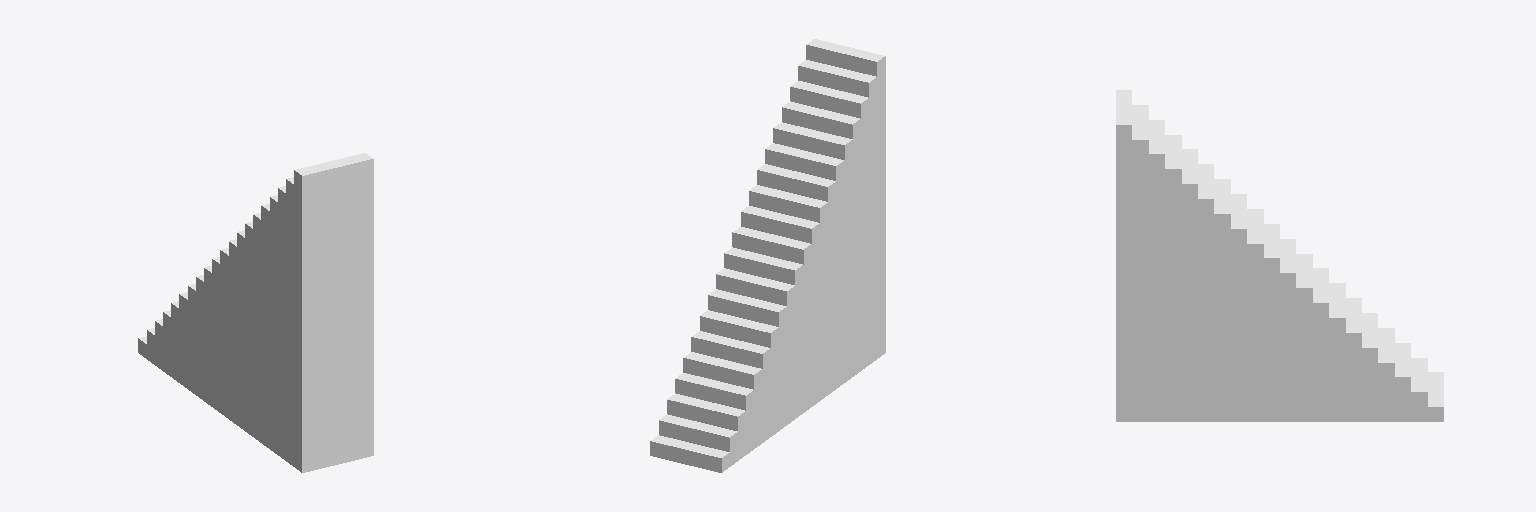
Rendered from stairs_40_40_10.obj.
The picture shows the model from 3 angles: view 1: azimuth 30°, elevation 25°; view 2: azimuth 150°, elevation 25°; view 3: azimuth 270°, elevation 25°; orthographic projection.
Visible parts, largest first — view 1: object 1; view 2: object 1; view 3: object 1.
Boxes of the visible parts, <box> form: object 1: <box>138,153,373,472</box>; object 1: <box>650,39,885,472</box>; object 1: <box>1116,90,1443,421</box>.
Size of the model in its own units: 1 by 4 by 4.